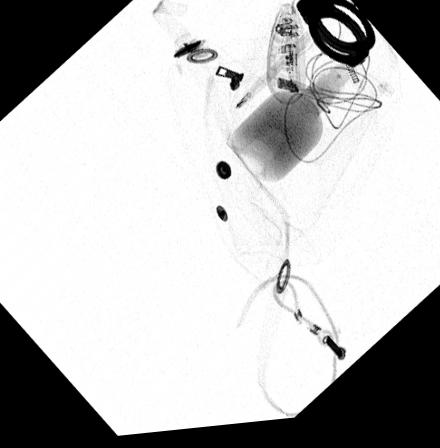HandCuffs: (294, 0, 379, 78)
